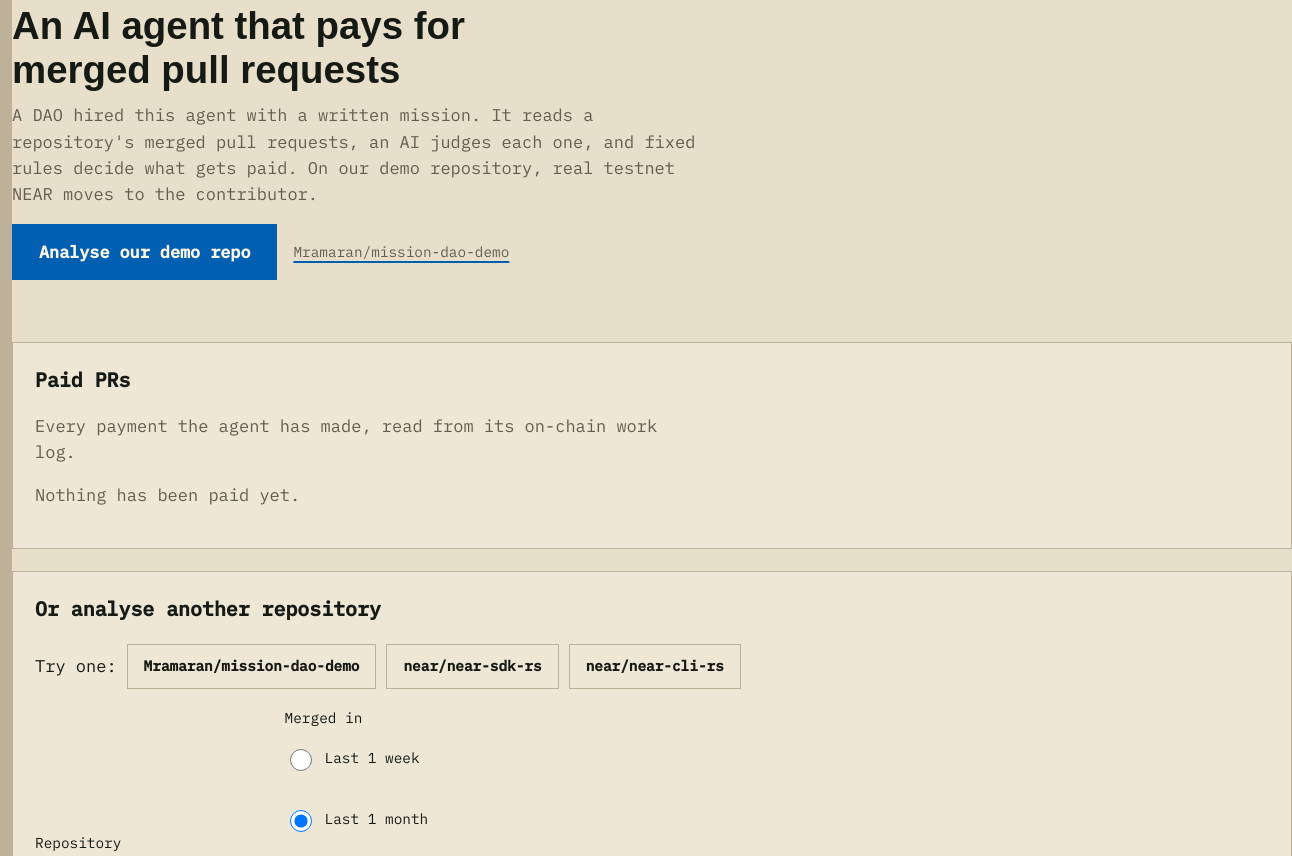
AnalyseRepo › example buttons fill the field and analyse that repo over the chosen range
This screenshot has width=1292, height=856.
Expected: the buttons read "Mramaran/mission-dao-demo", "near/near-sdk-rs", "near/near-cli-rs", in this order, [127,644,376,689]; [386,644,559,689]; [569,644,741,689]
Click the radio button labelled "Last 1 week" at (301, 760), box [290,738,312,782]
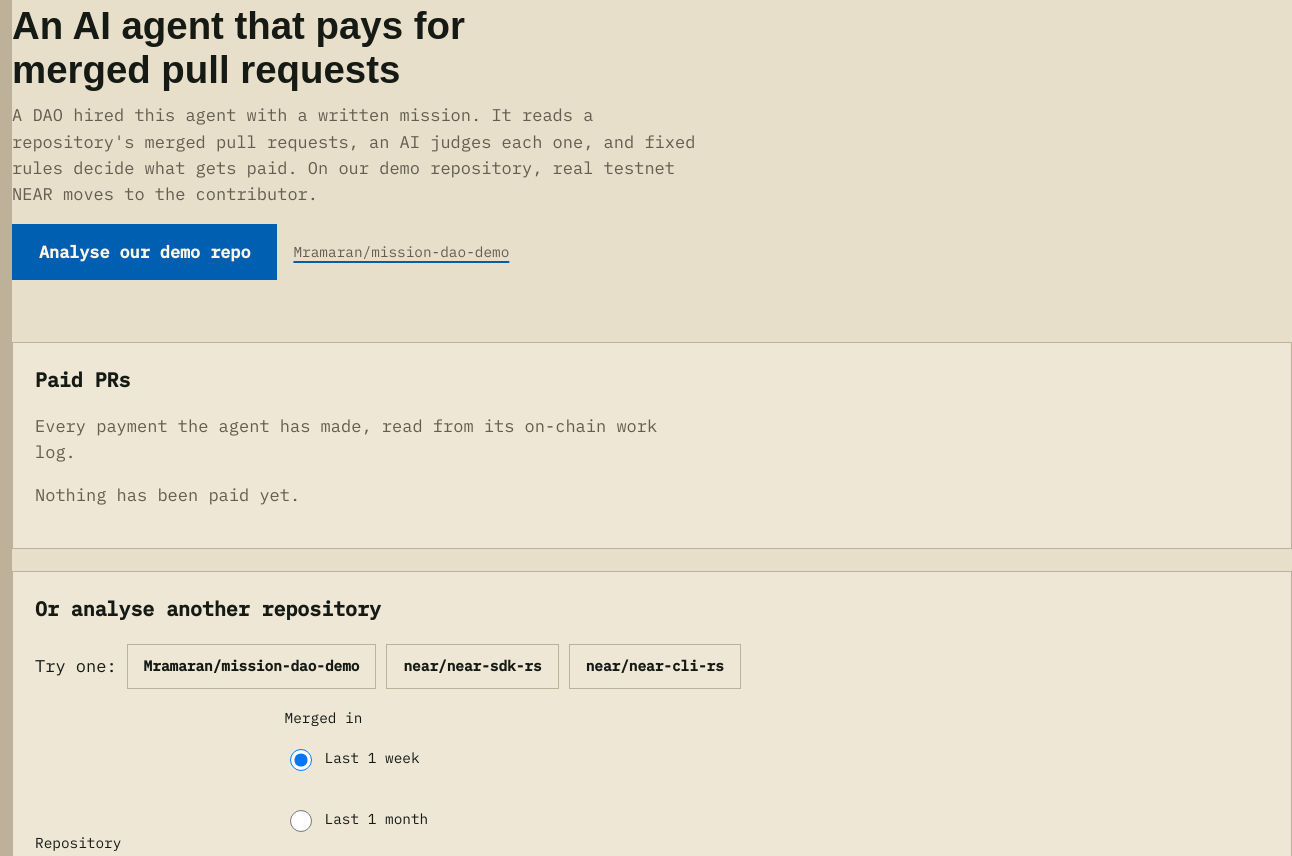
Click the button "near/near-sdk-rs" at (473, 667), box [386,644,559,689]
(page scrolled)
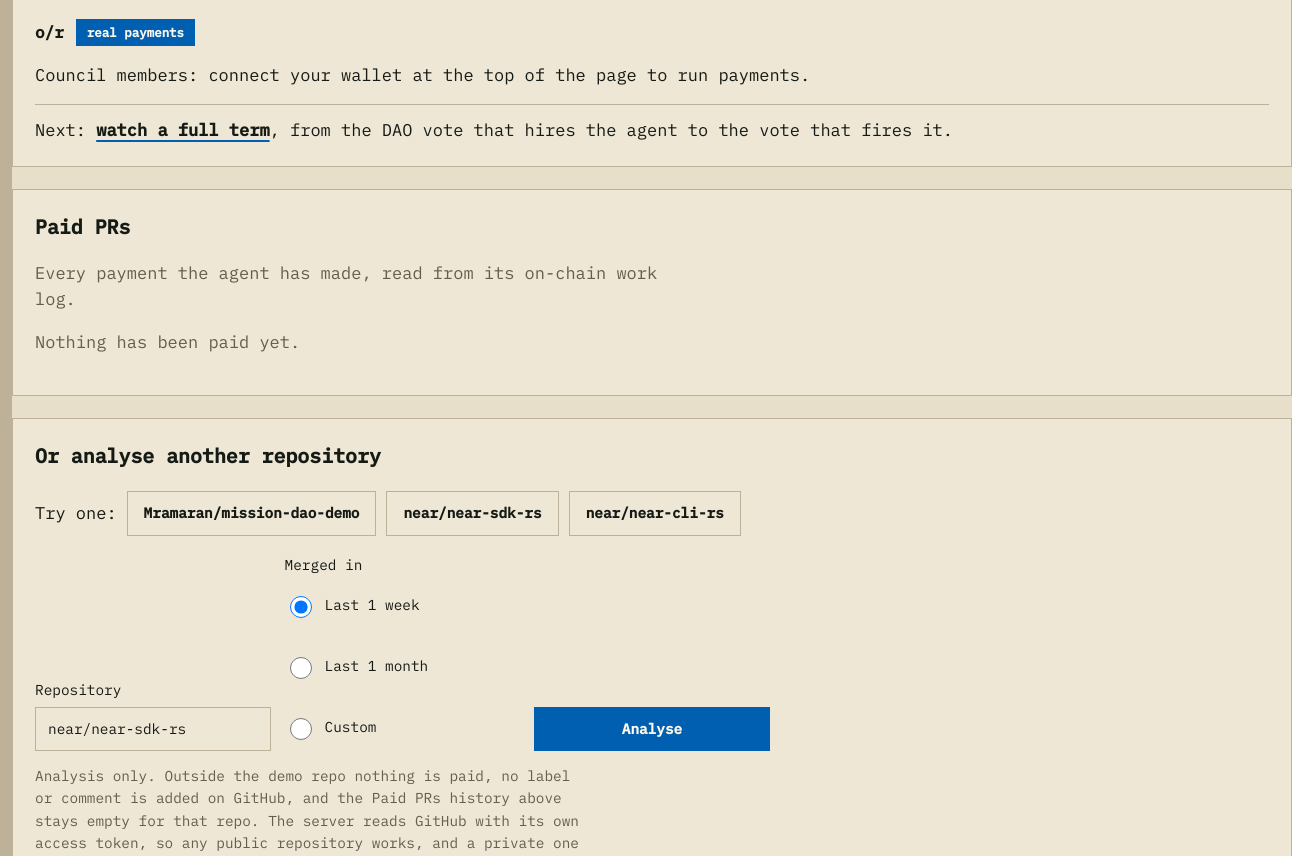
Expected: the field labelled "Repository" holds "near/near-sdk-rs", [35,707,271,751]
